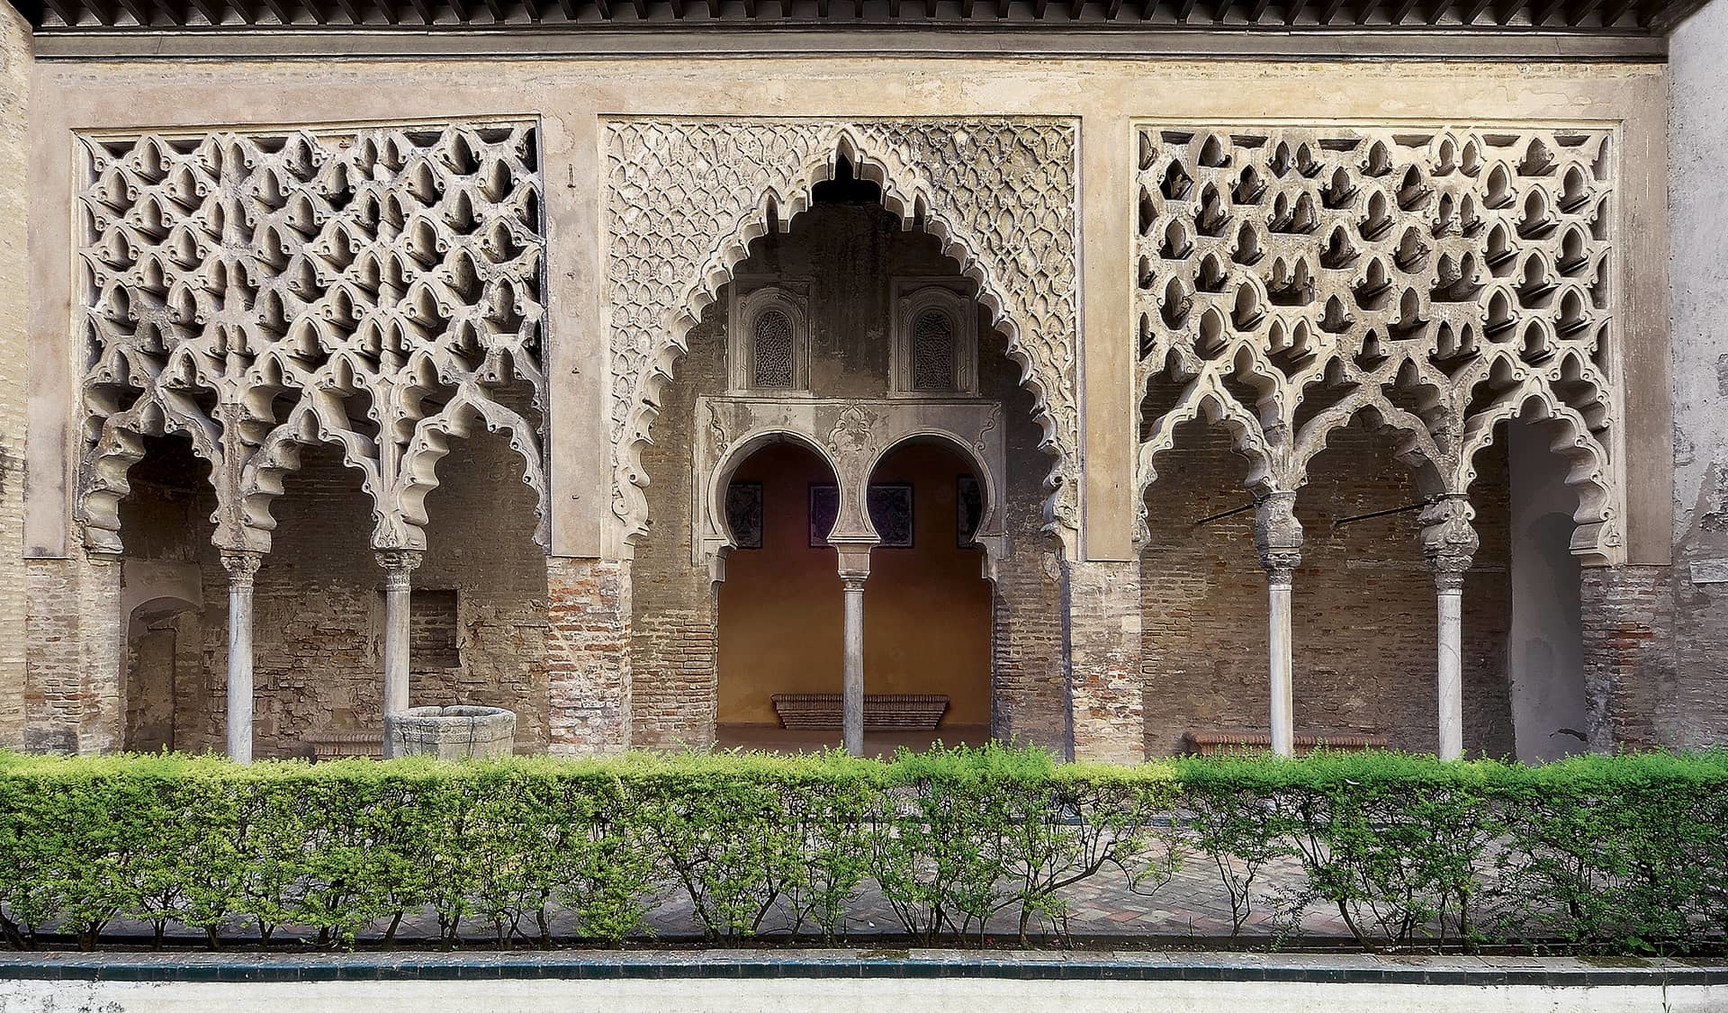arco-herradura: (702, 420, 854, 599), (854, 421, 1002, 601)
arco-lobulado: (1452, 376, 1617, 608), (1279, 392, 1453, 609), (80, 392, 242, 607), (1134, 371, 1281, 605), (241, 394, 399, 604), (398, 386, 549, 604)
